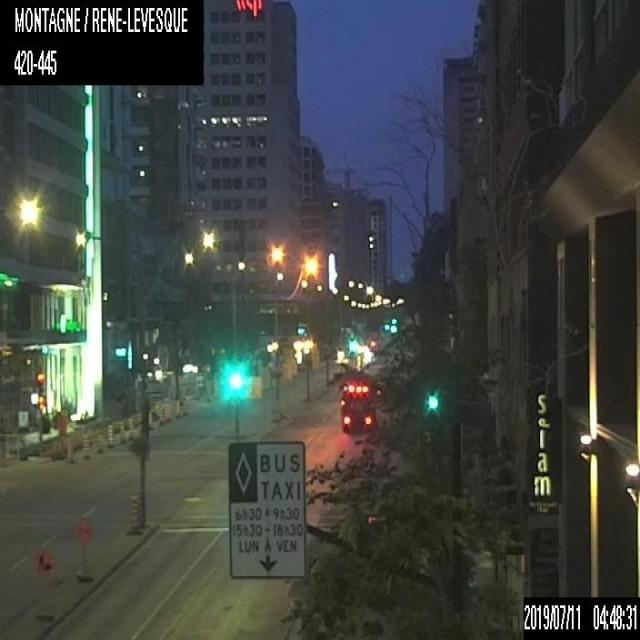construction: (73, 516, 94, 580), (35, 550, 52, 618), (127, 486, 141, 533), (66, 430, 74, 462), (82, 433, 90, 460), (106, 418, 114, 445), (96, 427, 102, 453), (119, 419, 124, 441), (129, 415, 134, 436), (158, 405, 164, 422)
vehicle: (341, 373, 374, 432)
